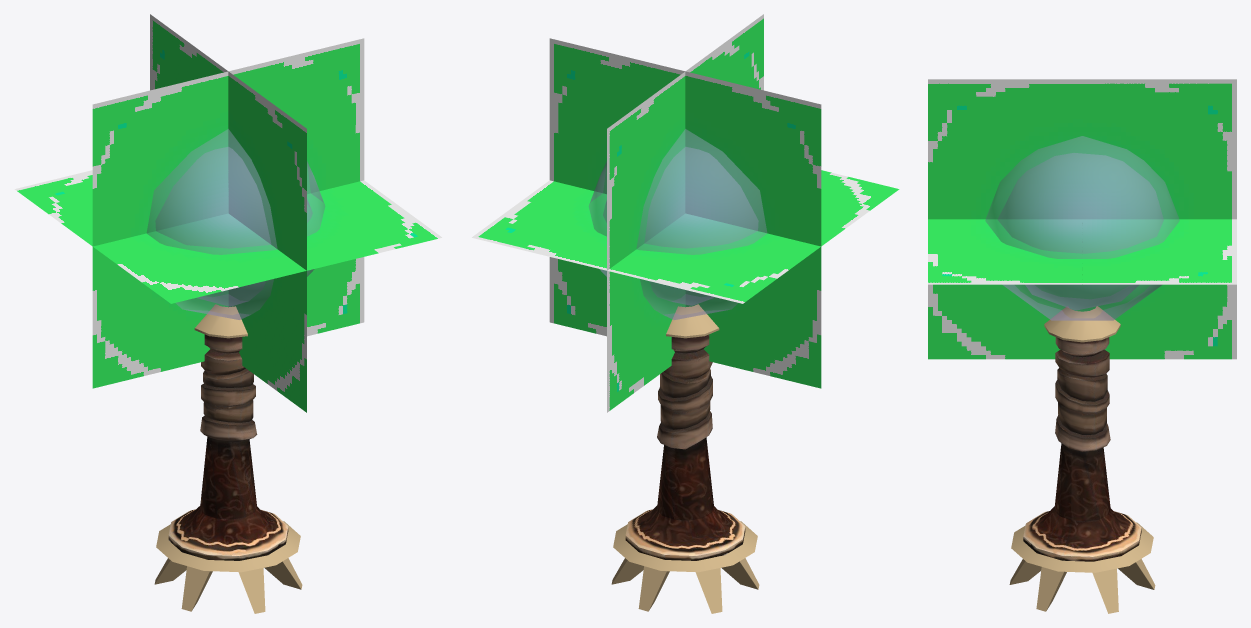
The model's file is Script-Wand-4-green.fbx.
3 renders of one model, left to right at view 1: azimuth 30°, elevation 25°; view 2: azimuth 150°, elevation 25°; view 3: azimuth 270°, elevation 25°, orthographic.
Visible parts, largest first — view 1: Plane, Cylinder.001; view 2: Plane, Cylinder.001; view 3: Plane, Cylinder.001.
Part boxes in pixels (<box>): Plane: <box>14,14,441,412</box>; Cylinder.001: <box>147,129,324,613</box>; Plane: <box>472,14,899,412</box>; Cylinder.001: <box>589,129,766,613</box>; Plane: <box>928,79,1236,359</box>; Cylinder.001: <box>985,136,1179,613</box>.
Size of the model in its own units: 21.81 by 39.41 by 21.81.
4 materials, 2 textured.
